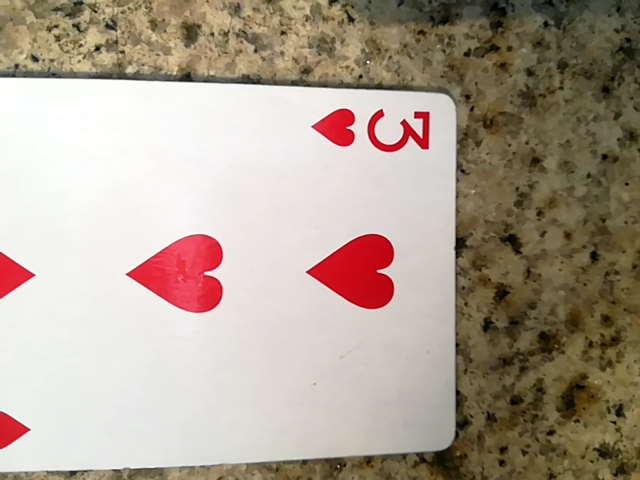hx 3: (0, 72, 458, 480)
